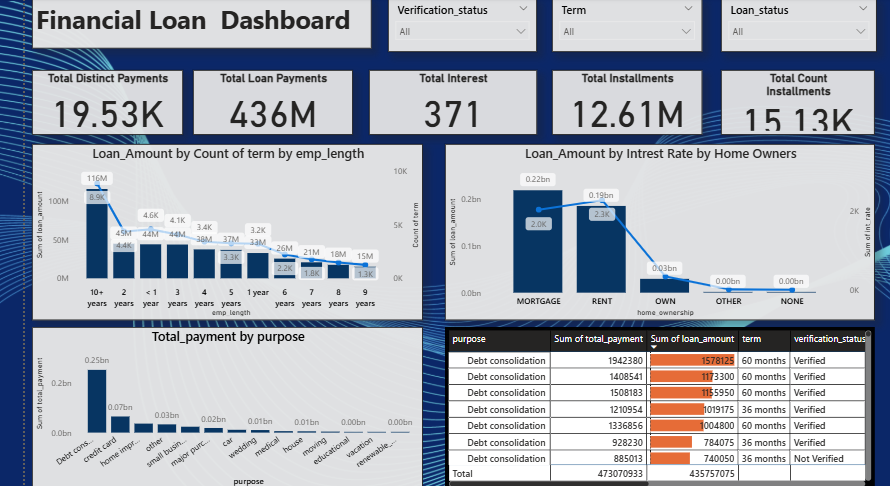

What the dashboard file says about the page in this screenshot:
{"tool":"powerbi","page":{"name":"Page 1","canvas":[1280,720],"ordinal":0},"visuals":[{"type":"textbox","box":[10.1,0,497.2,73.9],"z":0},{"type":"slicer","fields":{"Values":["financial_loan.verification_status"]},"box":[530.8,0,218.4,79],"z":1000},{"type":"slicer","fields":{"Values":["financial_loan.term"]},"box":[771,0,220.1,79],"z":2000},{"type":"slicer","fields":{"Values":["financial_loan.loan_status"]},"box":[1018,0,228.5,79],"z":3000},{"type":"card","title":"Total Distinct Payments","fields":{"Values":["Count(financial_loan.total_payment)"]},"box":[10.2,105.4,221,95.1],"z":4000},{"type":"card","title":"Total Loan Payments","fields":{"Values":["Sum(financial_loan.loan_amount)"]},"box":[245.9,105.4,234.1,95.1],"z":5000},{"type":"card","title":"Total Interest  ","fields":{"Values":["Count(financial_loan.int_rate)"]},"box":[503.4,105.4,245.9,95.1],"z":6000},{"type":"card","title":"Total Installments","fields":{"Values":["Sum(financial_loan.installment)"]},"box":[771.2,105.4,219.5,95.1],"z":7000},{"type":"card","title":"Total Count Installments","fields":{"Values":["Count(financial_loan.installment)"]},"box":[1018.5,105.4,225.4,95.1],"z":8000},{"type":"lineClusteredColumnComboChart","title":"Loan_Amount by Count of term by emp_length","fields":{"Y":["Sum(financial_loan.loan_amount)"],"Category":["financial_loan.emp_length"],"Y2":["CountNonNull(financial_loan.term)"]},"box":[10.2,213.7,572.2,257.6],"z":9000},{"type":"lineClusteredColumnComboChart","title":"Loan_Amount by Intrest Rate by Home Owners","fields":{"Y":["Sum(financial_loan.loan_amount)"],"Category":["financial_loan.home_ownership"],"Y2":["Sum(financial_loan.int_rate)"]},"box":[614.6,213.7,629.3,257.6],"z":9001},{"type":"columnChart","title":"Total_payment by purpose","fields":{"Y":["Sum(financial_loan.total_payment)"],"Category":["financial_loan.purpose"]},"box":[10.2,481.5,572.2,238.5],"z":9002},{"type":"tableEx","fields":{"Values":["financial_loan.purpose","Sum(financial_loan.total_payment)","Sum(financial_loan.loan_amount)","financial_loan.term","financial_loan.verification_status","Sum(financial_loan.annual_income)","Sum(financial_loan.installment)","Sum(financial_loan.int_rate)","financial_loan.issue_date","financial_loan.last_payment_date","financial_loan.loan_status"]},"box":[615,481,629,239],"z":9003}]}

Visuals, with their boxes in screenshot pixels (x1, y1, x2, y2):
textbox: Rect(26, 0, 369, 46)
slicer - financial_loan.verification_status: Rect(385, 0, 536, 50)
slicer - financial_loan.term: Rect(551, 0, 704, 50)
slicer - financial_loan.loan_status: Rect(722, 0, 880, 50)
"Total Distinct Payments" card: Rect(26, 68, 178, 134)
"Total Loan Payments" card: Rect(188, 68, 350, 134)
"Total Interest  " card: Rect(366, 68, 536, 134)
"Total Installments" card: Rect(552, 68, 703, 134)
"Total Count Installments" card: Rect(722, 68, 878, 134)
"Loan_Amount by Count of term by emp_length" lineClusteredColumnComboChart: Rect(26, 143, 421, 321)
"Loan_Amount by Intrest Rate by Home Owners" lineClusteredColumnComboChart: Rect(443, 143, 878, 321)
"Total_payment by purpose" columnChart: Rect(26, 328, 421, 485)
tableEx - financial_loan.purpose x Sum(financial_loan.total_payment): Rect(444, 328, 878, 485)
